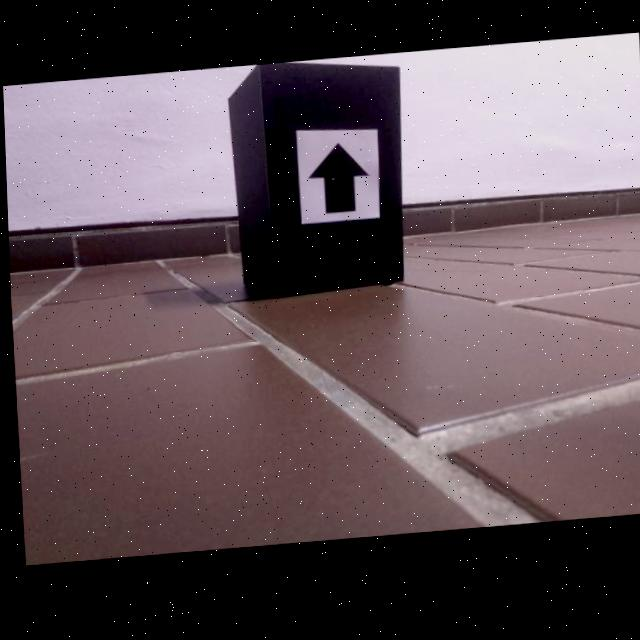UP: (305, 146, 368, 218)
